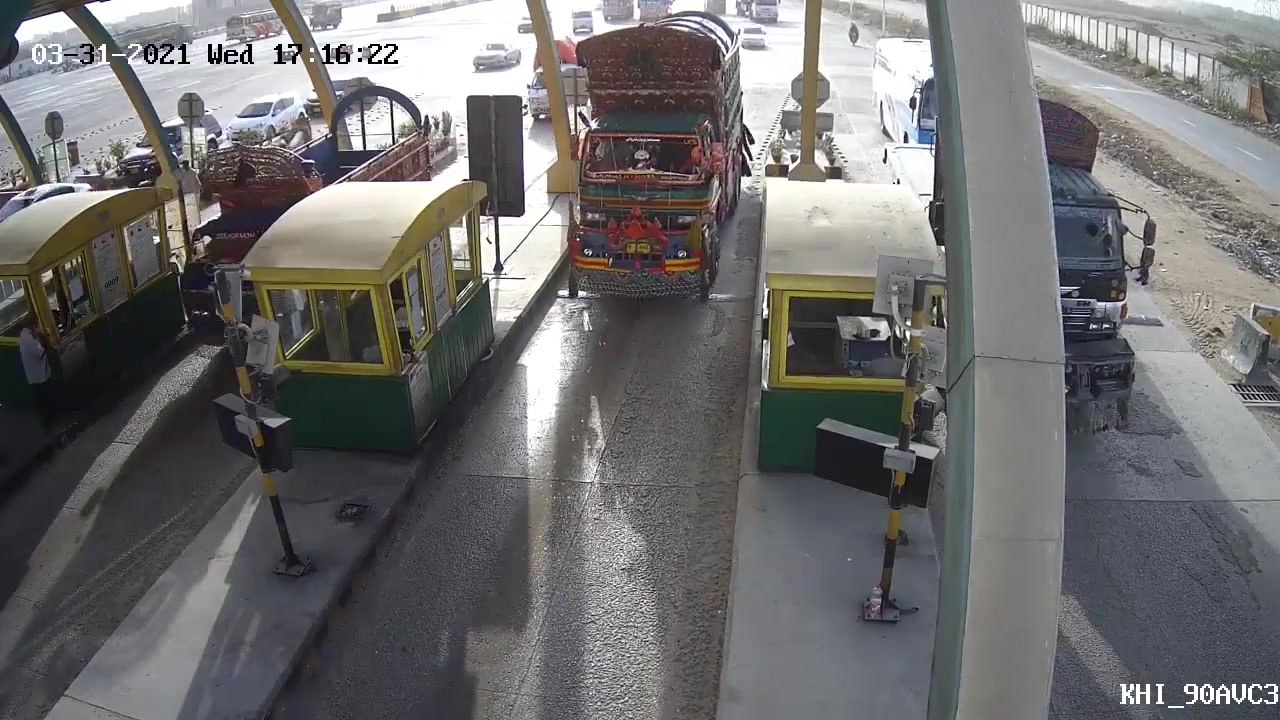F6: (533, 17, 763, 305)
